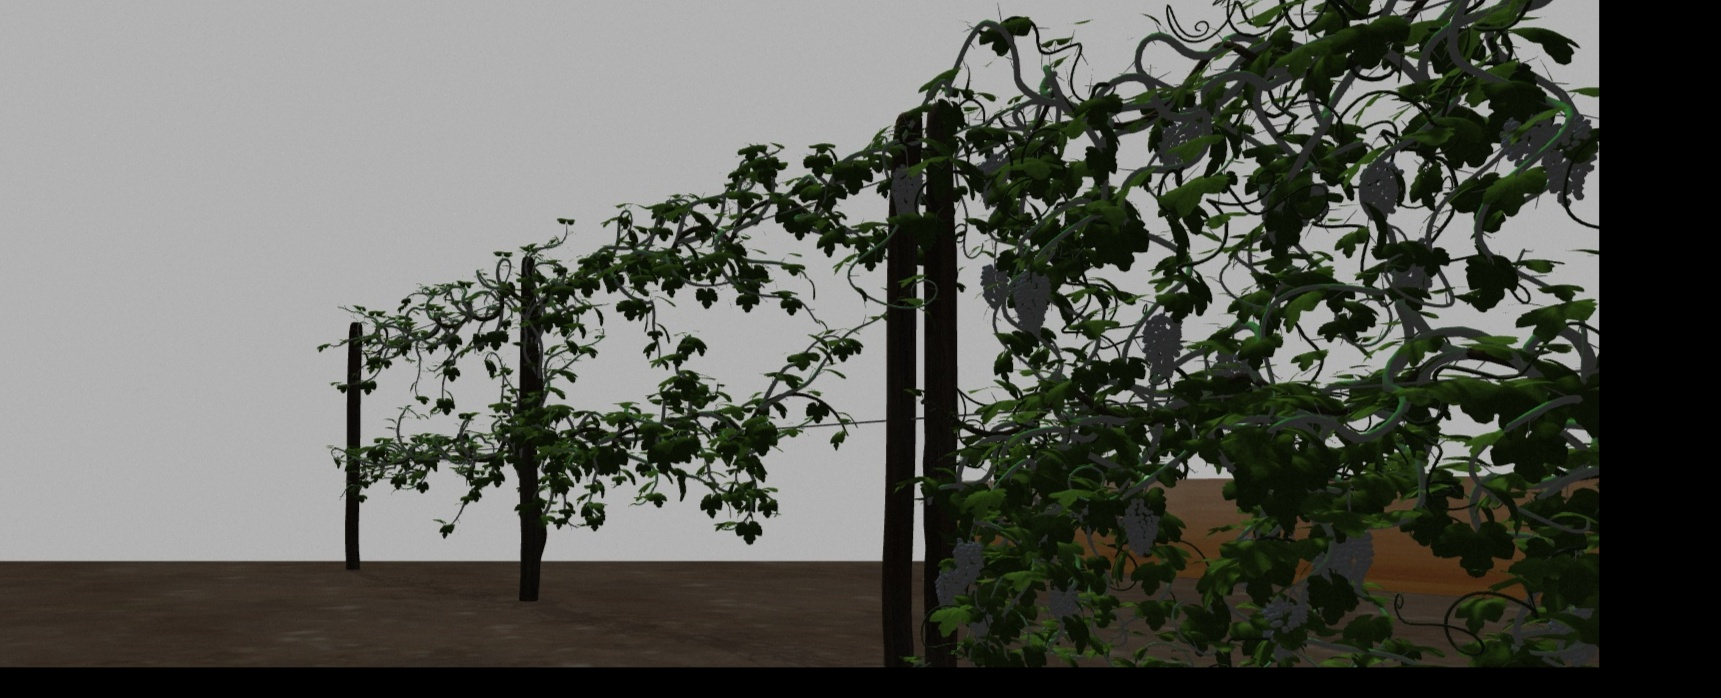grape: (1544, 116, 1596, 205), (1143, 313, 1183, 383), (1497, 117, 1556, 165), (1332, 527, 1375, 589), (1012, 273, 1051, 335), (1361, 160, 1398, 217), (1124, 498, 1159, 556), (891, 165, 924, 221), (1267, 589, 1307, 631), (934, 568, 968, 609), (953, 540, 985, 583), (980, 263, 1010, 307), (1048, 585, 1079, 624)
